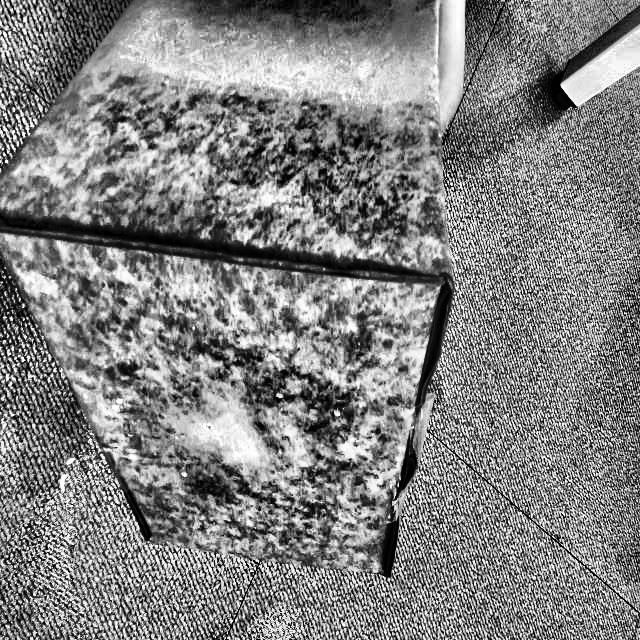box: (0, 0, 456, 582)
hole: (543, 2, 638, 115)
wet: (0, 47, 449, 573)
